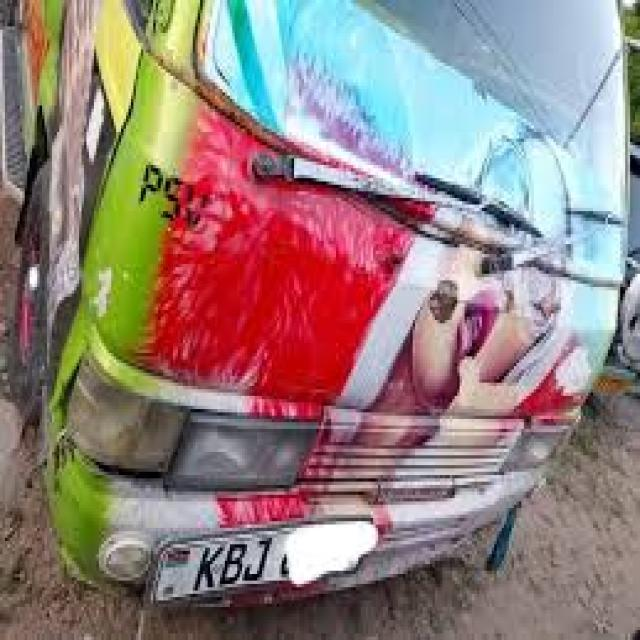matatu: (5, 1, 640, 608)
